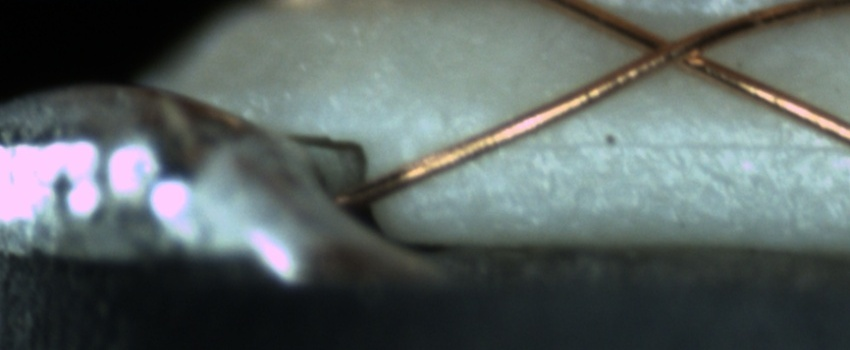CL: (619, 18, 724, 78)
DL: (484, 116, 850, 176)
